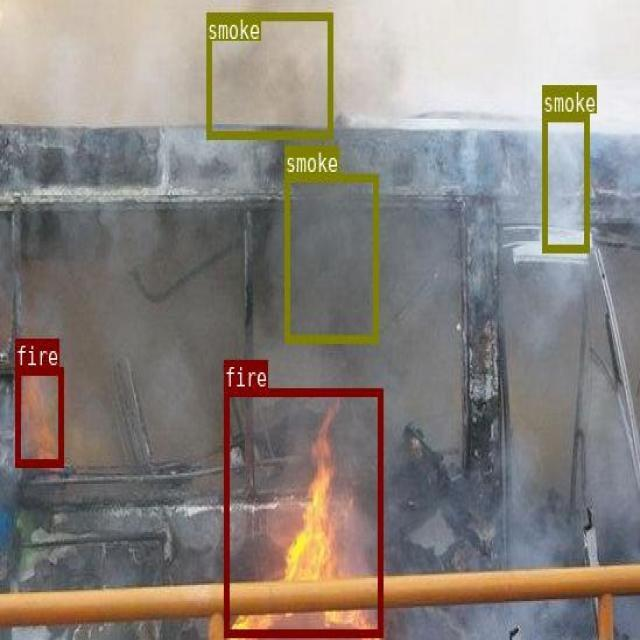fire: (223, 387, 382, 635), (14, 365, 62, 465)
smoke: (205, 12, 332, 138), (284, 172, 378, 342), (541, 113, 588, 251)
